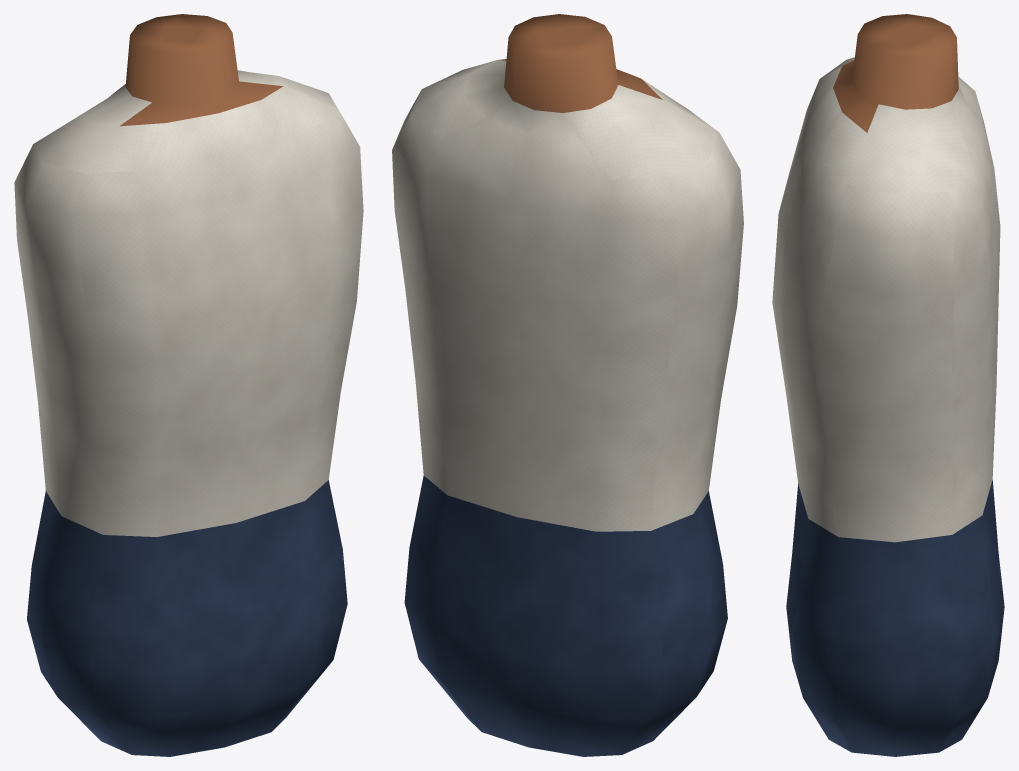
File: torso.obj
3 renders of one model, left to right at view 1: azimuth 30°, elevation 25°; view 2: azimuth 150°, elevation 25°; view 3: azimuth 270°, elevation 25°, orthographic.
Parts seen in each view (by area): view 1: Torso; view 2: Torso; view 3: Torso.
Part boxes in pixels (bbox=[...]): Torso: bbox=[14, 14, 363, 756]; Torso: bbox=[392, 14, 743, 756]; Torso: bbox=[772, 14, 1004, 756].
Bounding box in the file's own units: 0.2455 × 0.4995 × 0.1544.
Materials: 3 (3 with a texture image).
